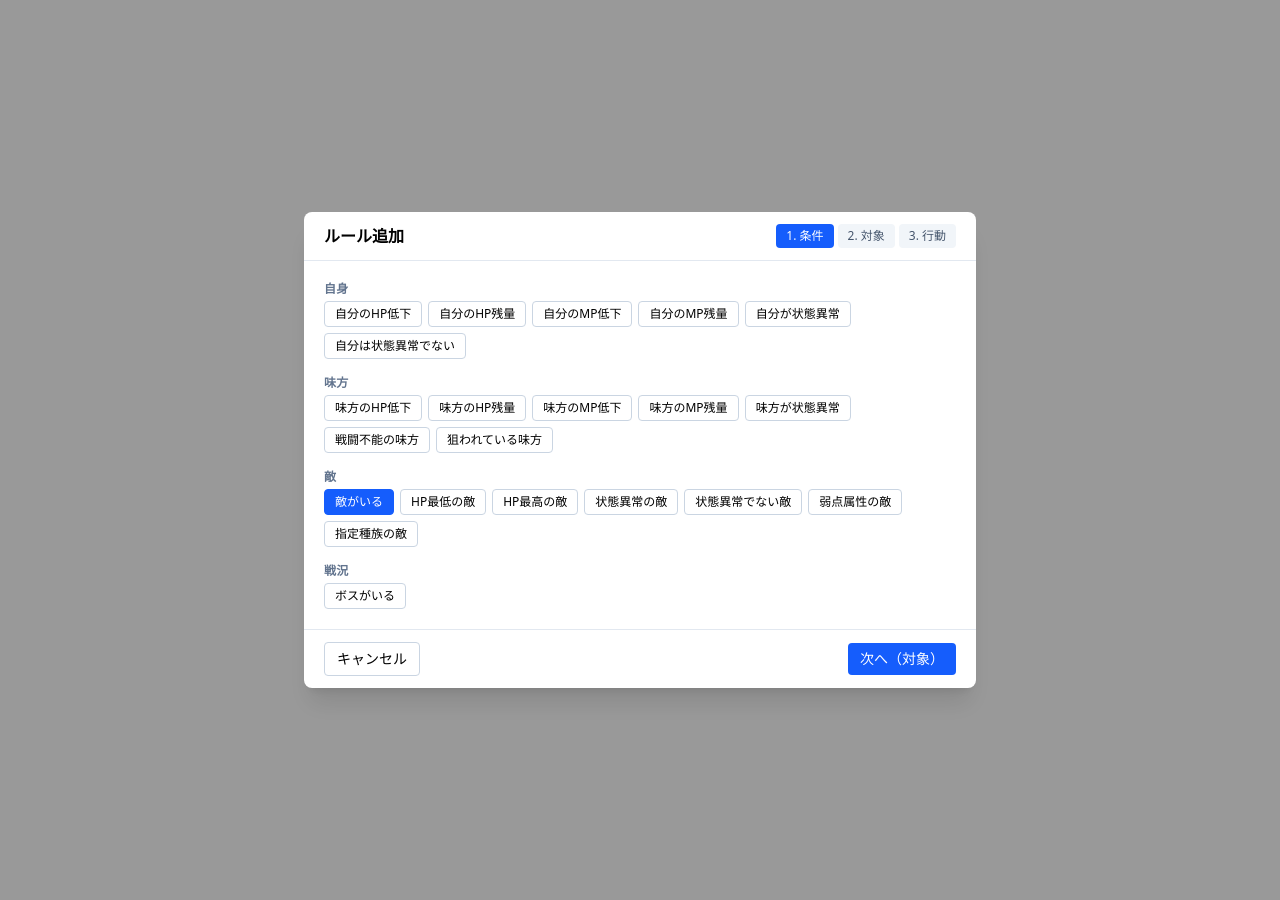
Test: RulePicker - ステップ遷移 › Step 1 → Step 2 → Step 3 と進める
This screenshot has width=1280, height=900.
Expected: the heading "自身" is shown, [324,280,349,297]
Click the button "次へ（対象）" at x=902, y=659, box [848,643,956,675]
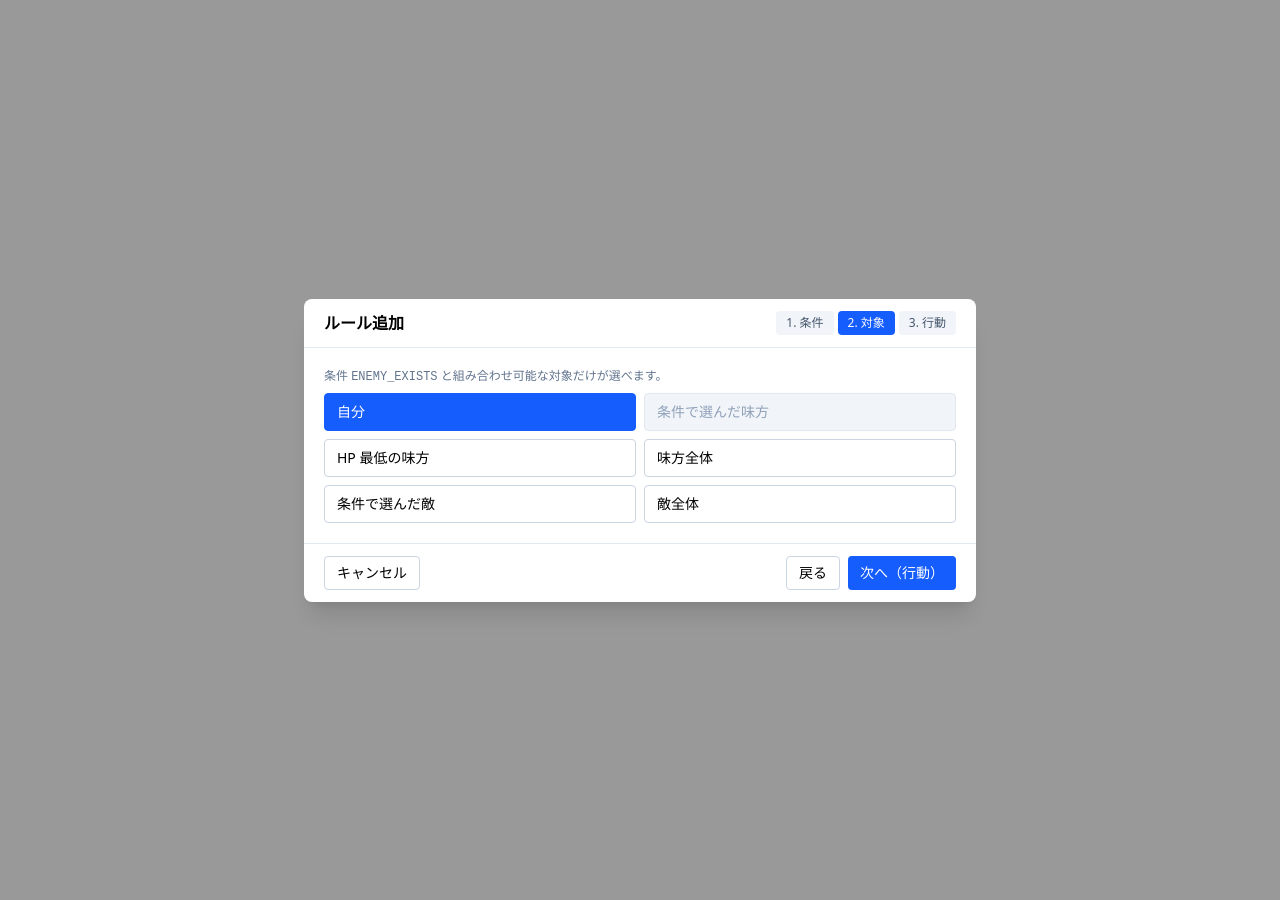
Expected: the button "自分" is shown, [324,392,636,430]
Click the button "次へ（行動）" at x=902, y=572, box [848,556,956,590]
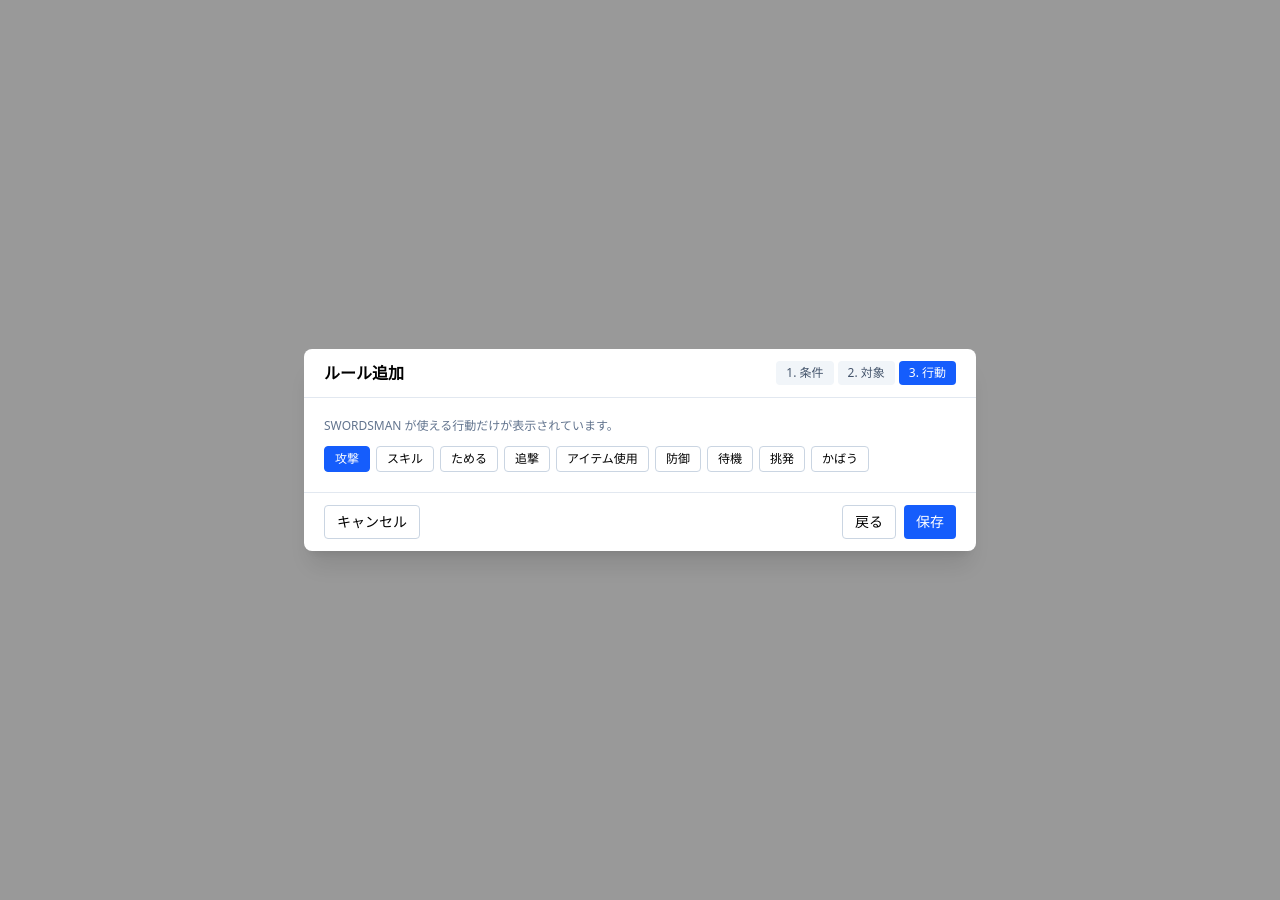
Now the button "攻撃" is shown, box [324,446,370,472]
